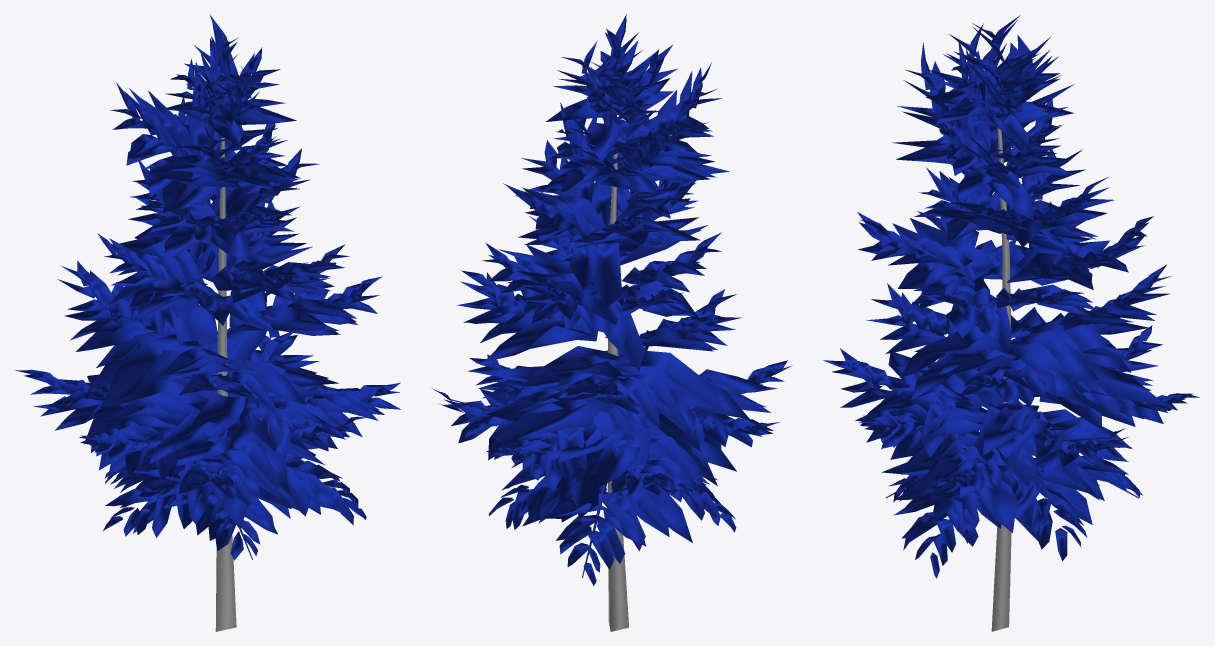
File: TREE_SCALED.fbx
The picture shows the model from 3 angles, left to right: view 1: azimuth 30°, elevation 25°; view 2: azimuth 150°, elevation 25°; view 3: azimuth 270°, elevation 25°; orthographic projection.
Parts seen in each view (by area): view 1: LOD2; view 2: LOD2; view 3: LOD2.
Part boxes in pixels (x1,y1,x2,y2): LOD2: (15,14,400,631); LOD2: (432,14,792,631); LOD2: (822,15,1199,631).
Bounding box in the file's own units: 4.76 × 4.97 × 8.86.
